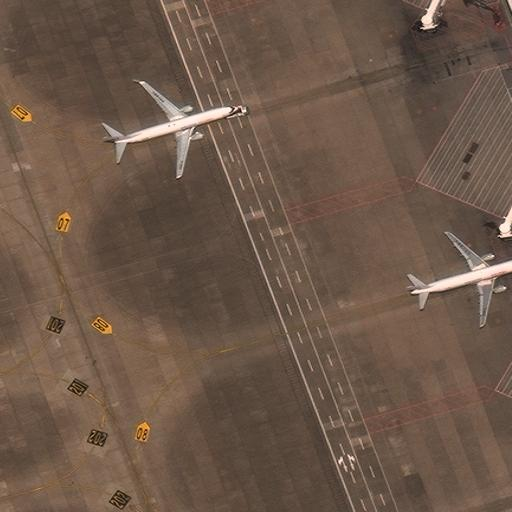Medium Civil Transport: (101, 80, 238, 176), (406, 231, 512, 325)
